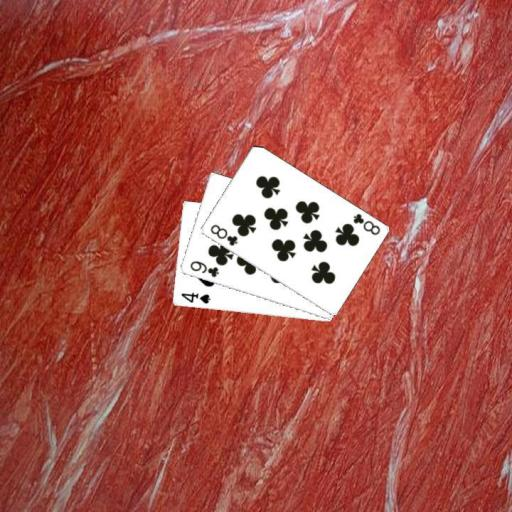4S: (178, 289, 211, 306)
8C: (207, 221, 239, 248), (349, 210, 381, 237)
9C: (187, 257, 221, 279)
